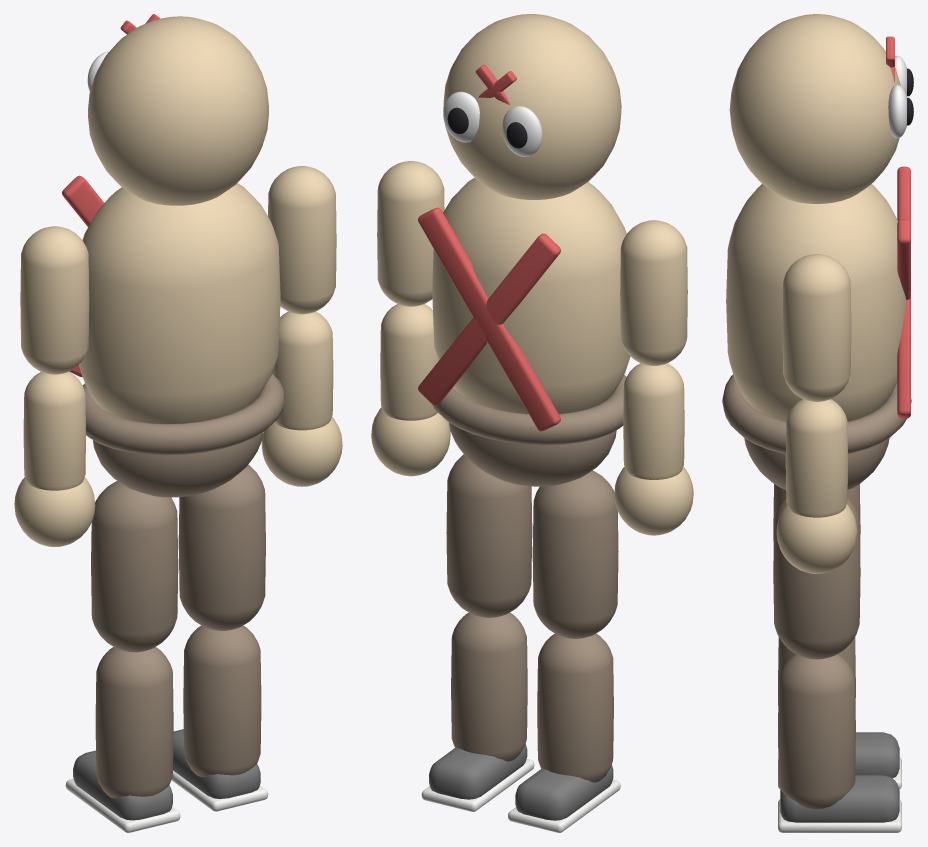
The model's file is character_dummy.glb.
3 views of the same model, side by side, from view 1: azimuth 30°, elevation 25°; view 2: azimuth 150°, elevation 25°; view 3: azimuth 270°, elevation 25° (orthographic).
Visible parts, largest first — view 1: torso, head, shin_l, shin_r, thigh_l, thigh_r, lower_arm_l, lower_arm_r, upper_arm_l, upper_arm_r, pelvis; view 2: torso, head, shin_r, shin_l, thigh_l, thigh_r, lower_arm_l, lower_arm_r, upper_arm_l, upper_arm_r, pelvis; view 3: torso, head, shin_r, lower_arm_r, upper_arm_r, thigh_r, shin_l, pelvis, thigh_l.
Boxes of the visible parts, bbox=[...] form: torso: bbox=[62, 175, 284, 455]; head: bbox=[87, 14, 268, 205]; shin_l: bbox=[65, 647, 180, 832]; shin_r: bbox=[171, 625, 268, 811]; thigh_l: bbox=[91, 481, 178, 652]; thigh_r: bbox=[178, 464, 265, 630]; lower_arm_l: bbox=[14, 372, 95, 547]; lower_arm_r: bbox=[261, 311, 342, 486]; upper_arm_l: bbox=[20, 226, 89, 374]; upper_arm_r: bbox=[268, 166, 336, 314]; pelvis: bbox=[93, 432, 263, 497]; torso: bbox=[418, 178, 630, 445]; head: bbox=[443, 14, 621, 199]; shin_r: bbox=[421, 612, 534, 811]; shin_l: bbox=[508, 633, 620, 832]; thigh_l: bbox=[532, 470, 618, 638]; thigh_r: bbox=[446, 454, 532, 617]; lower_arm_l: bbox=[614, 363, 693, 535]; lower_arm_r: bbox=[371, 304, 450, 476]; upper_arm_l: bbox=[620, 220, 687, 365]; upper_arm_r: bbox=[377, 161, 444, 306]; pelvis: bbox=[449, 422, 616, 486]; torso: bbox=[722, 166, 911, 453]; head: bbox=[729, 14, 913, 203]; shin_r: bbox=[778, 654, 901, 832]; lower_arm_r: bbox=[776, 399, 857, 573]; upper_arm_r: bbox=[782, 254, 851, 401]; thigh_r: bbox=[773, 498, 860, 659]; shin_l: bbox=[778, 637, 901, 789]; pelvis: bbox=[744, 438, 889, 489]; thigh_l: bbox=[773, 484, 860, 546].
Bounding box in the file's own units: 0.796 × 1.87 × 0.4174.
